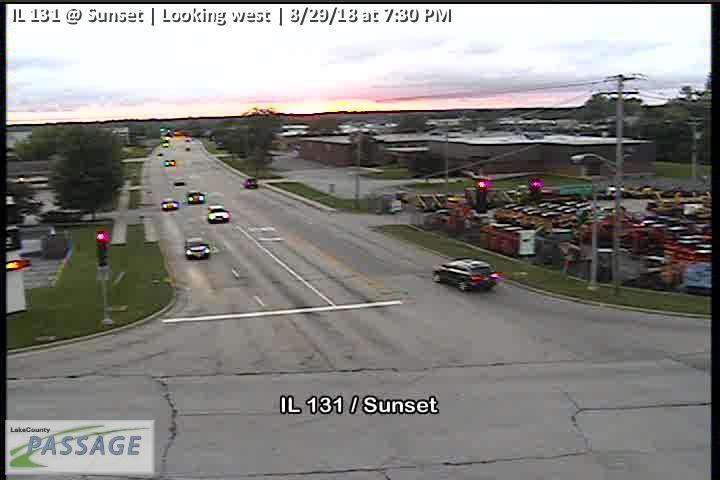Sedan: (433, 259, 498, 292), (184, 236, 213, 260), (206, 204, 232, 225), (160, 197, 178, 210)
